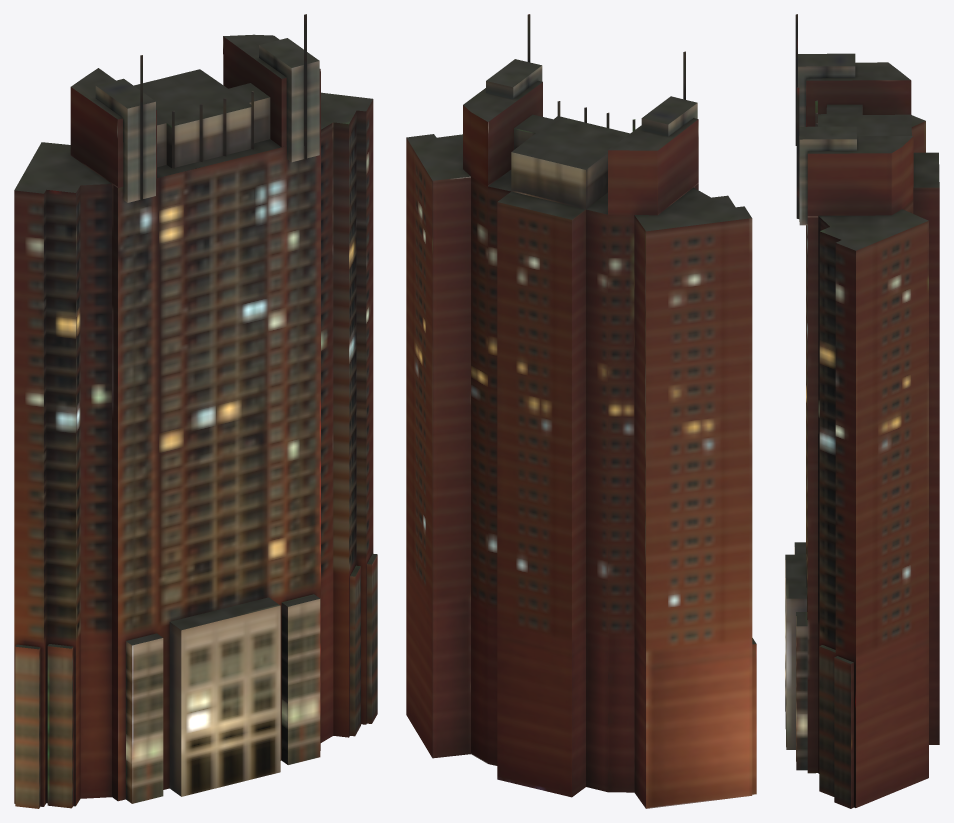
Rendered from background_buildings_1.004_background_buildings_1_0_lev3.glb.
The picture shows the model from 3 angles, left to right: view 1: azimuth 30°, elevation 25°; view 2: azimuth 150°, elevation 25°; view 3: azimuth 270°, elevation 25°; orthographic projection. The views are drawn at different scales.
Visible parts, largest first — view 1: background_buildings_1.004_background_buildings_1_0_lev3; view 2: background_buildings_1.004_background_buildings_1_0_lev3; view 3: background_buildings_1.004_background_buildings_1_0_lev3.
Part boxes in pixels (x1,y1,x2,y2): background_buildings_1.004_background_buildings_1_0_lev3: [14, 14, 377, 808]; background_buildings_1.004_background_buildings_1_0_lev3: [406, 14, 756, 808]; background_buildings_1.004_background_buildings_1_0_lev3: [785, 14, 939, 808].
Size of the model in its own units: 11.43 by 22.18 by 4.58.
1 material, 1 textured.
